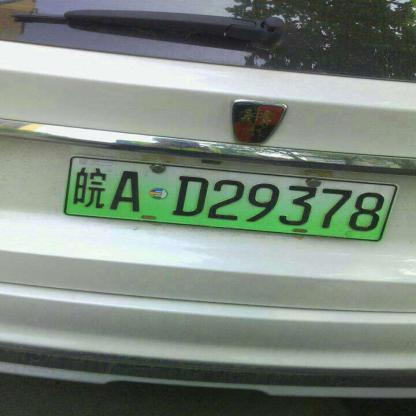lp: (64, 155, 396, 240)
